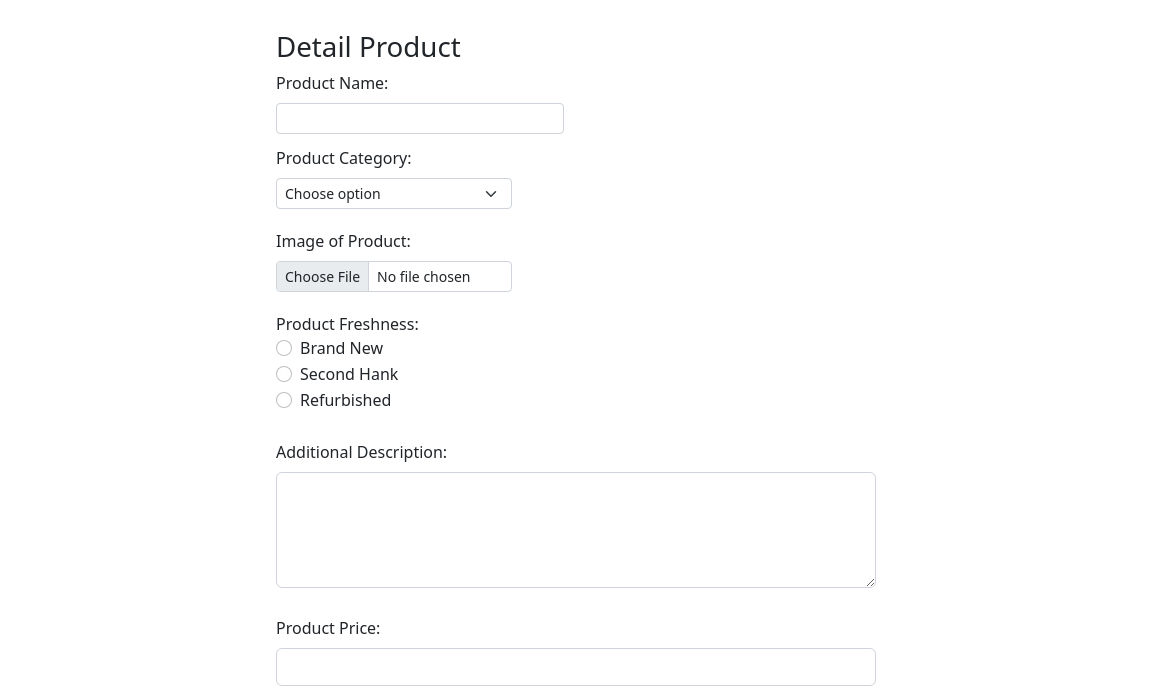
Test Prioritas 2 › should show error message when Product Name exceeds 25 characters
This screenshot has width=1152, height=699.
Type "Cookiess Red Velvet Enakkk" into the field labelled "Product Name:" at [420, 119], box [276,103,564,134]
(page scrolled)
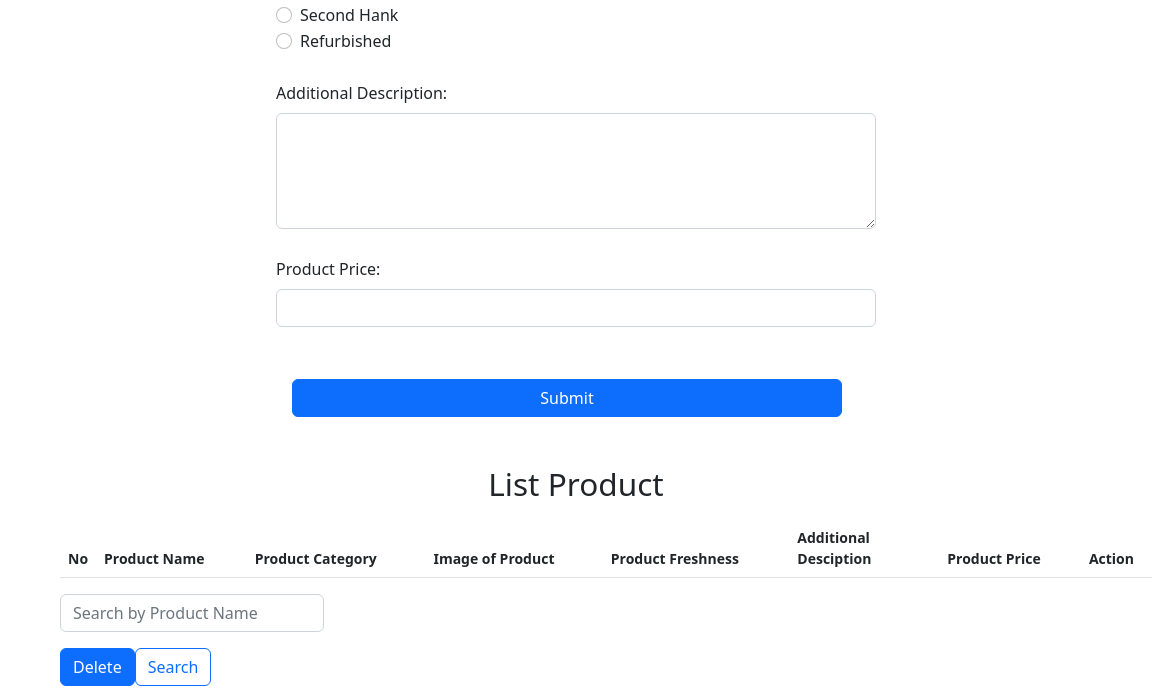
Click the button "Submit" at [567, 398], box [292,379,842,417]
(page scrolled)
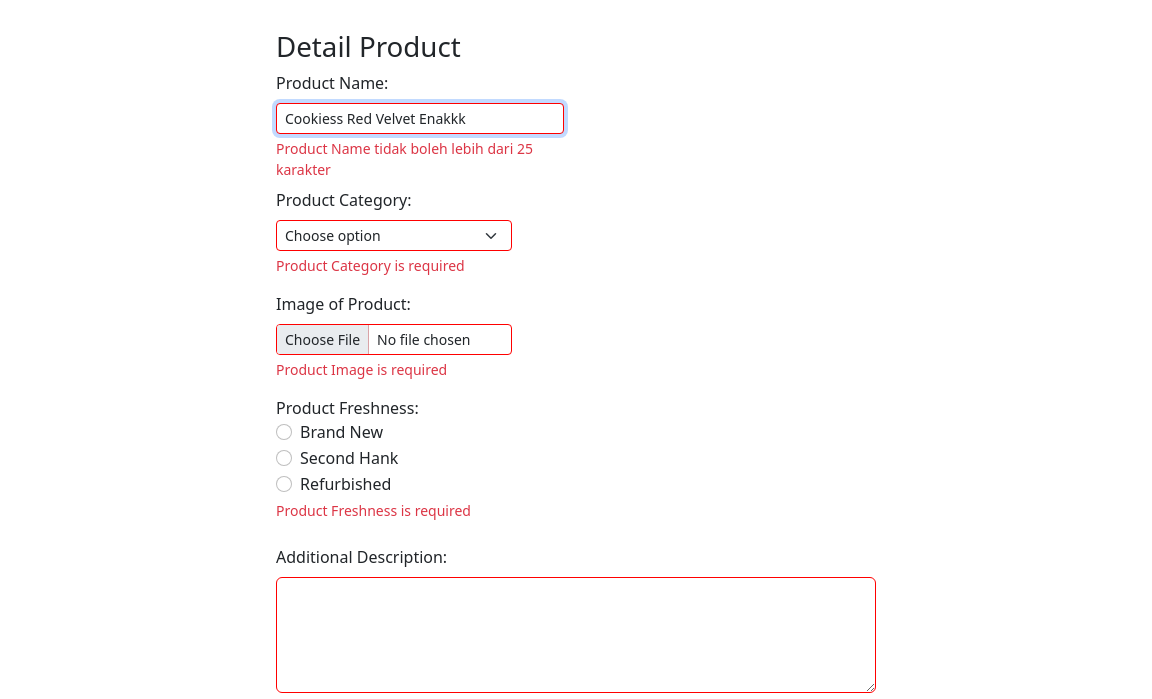
expect the text "Product Name tidak boleh lebih dari 25 karakter" is shown: met, box [276,138,564,180]
